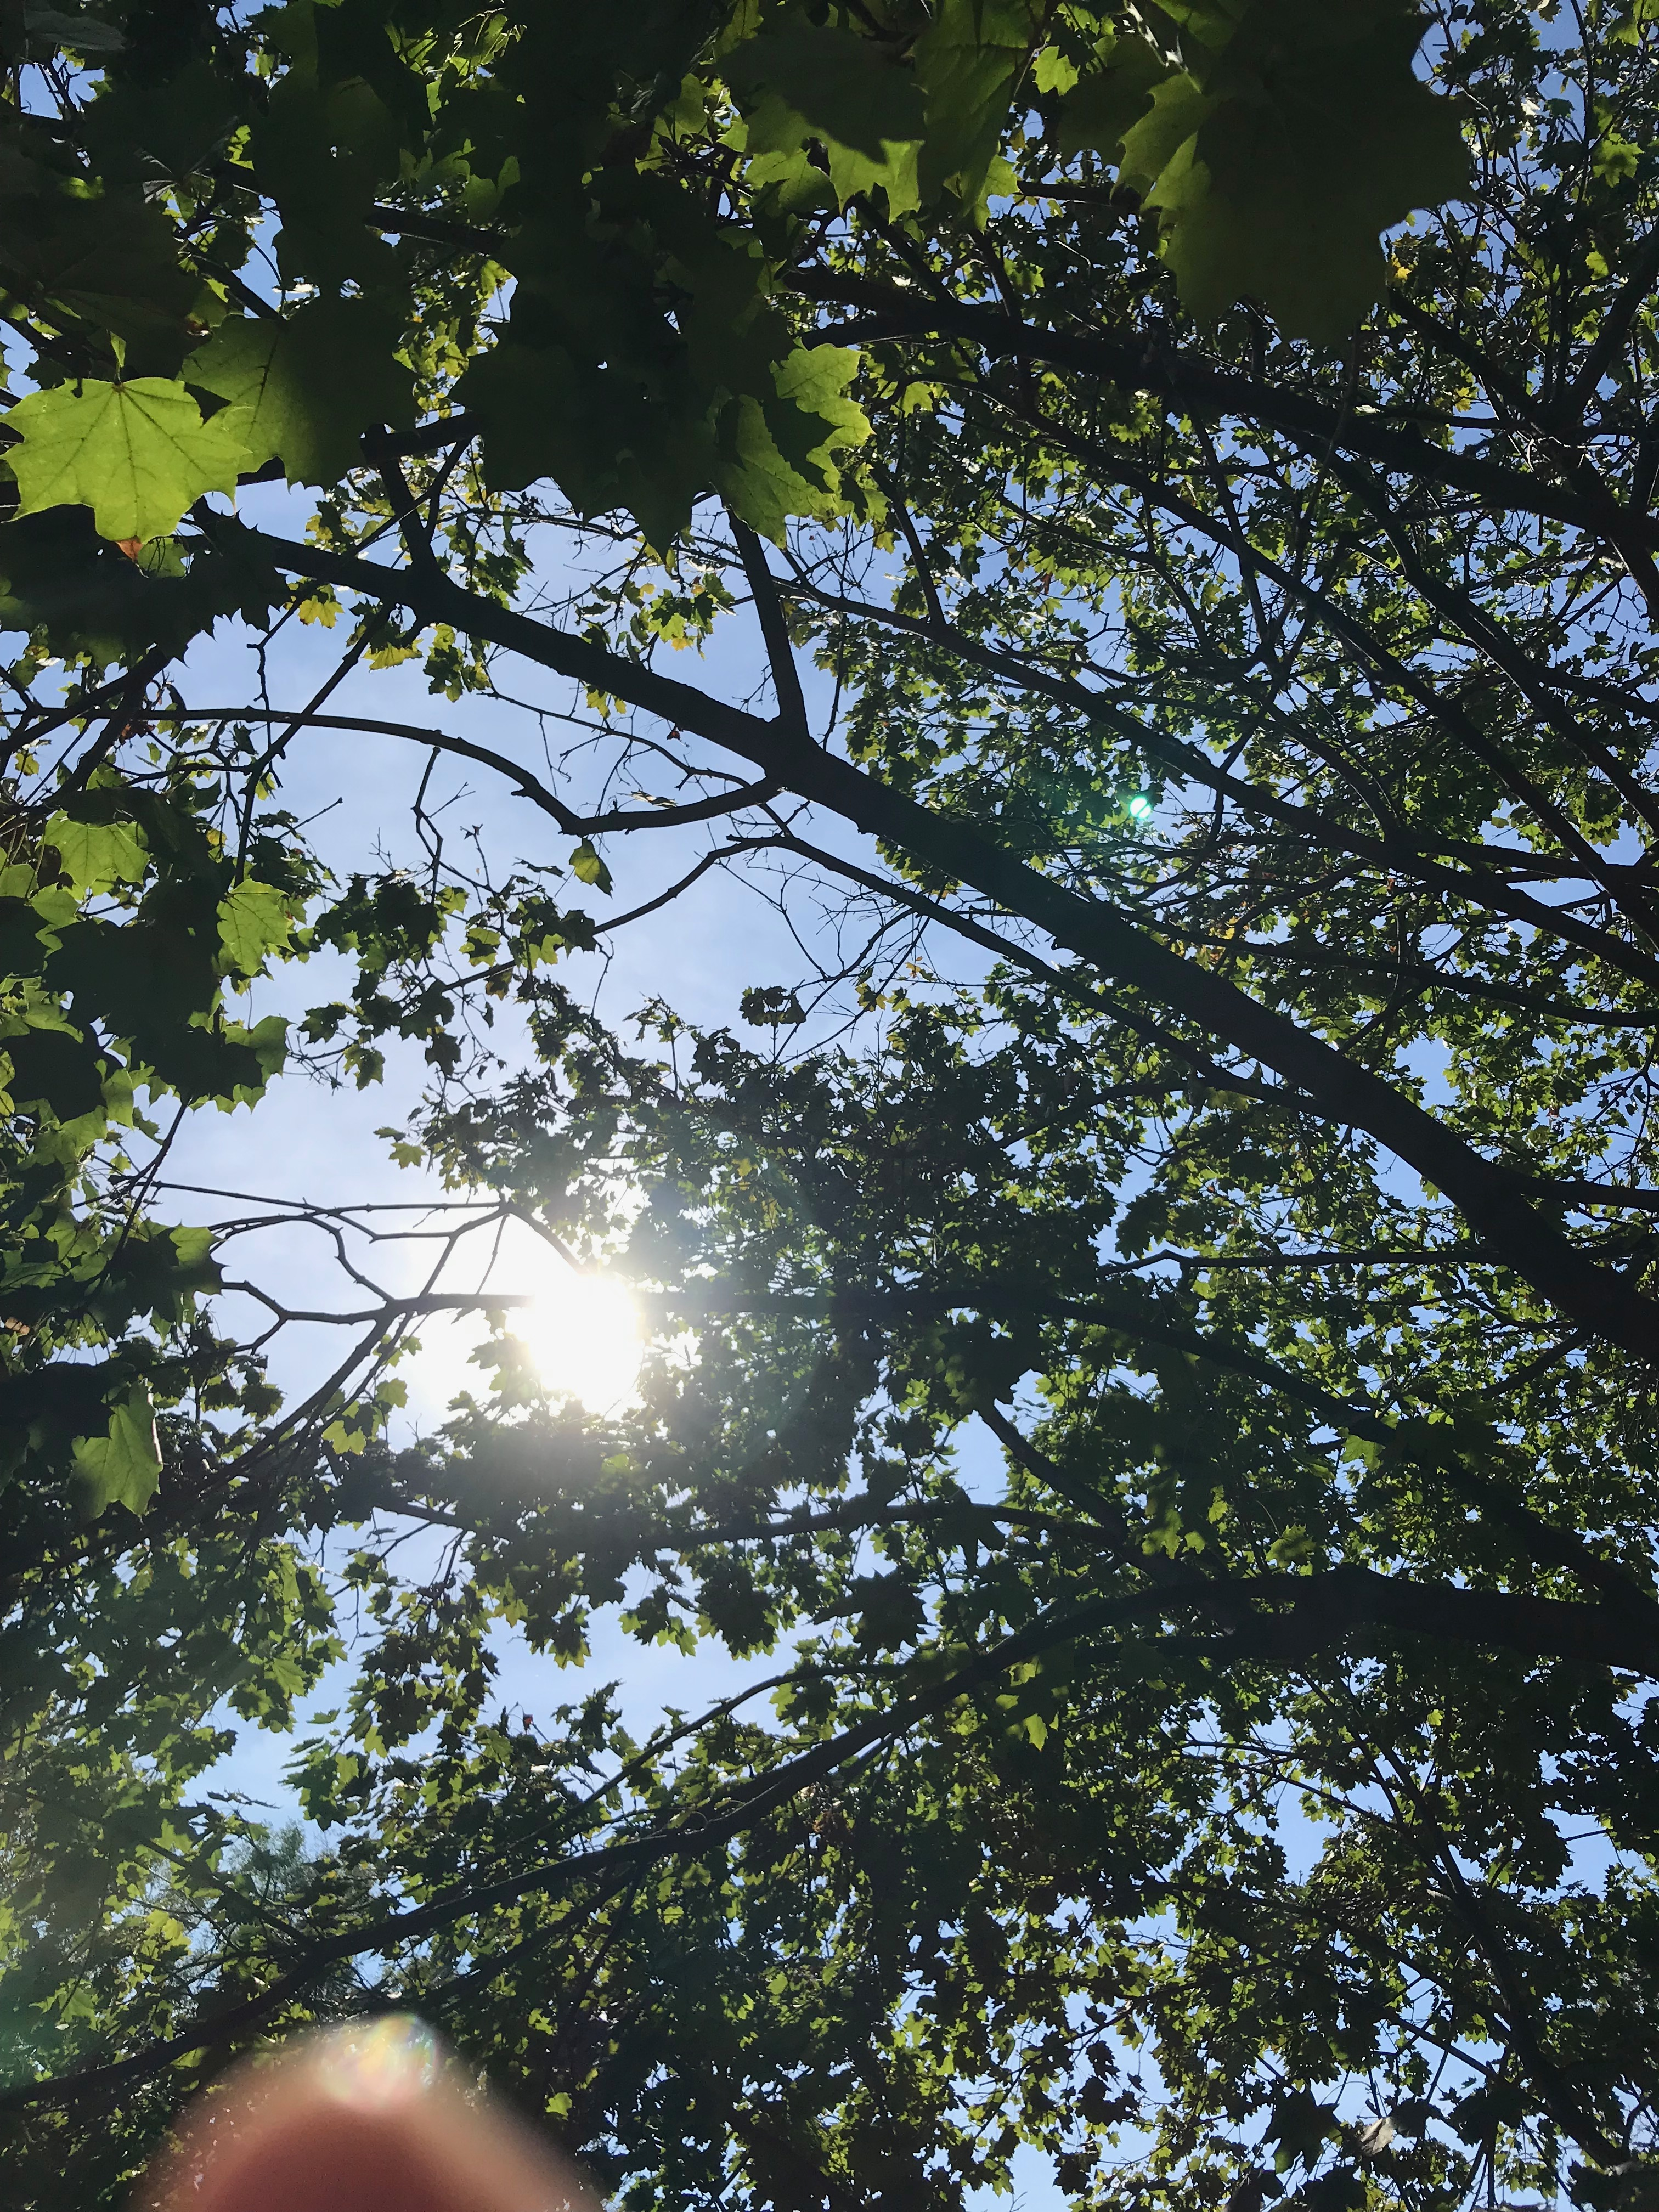flare: (1127, 792, 1157, 822)
